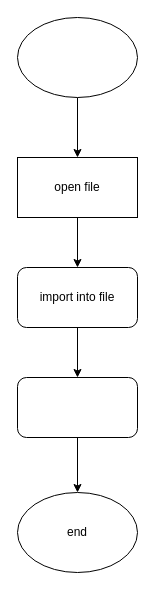
Image size: 155x590. Some labels were removed from this diagram. The shapes that lost their labels are listed below. From the top down, each one's box as (x1, y1, x2, y2) in pixels, then its label:
(16, 16, 138, 98): start
(16, 376, 138, 438): write to file
